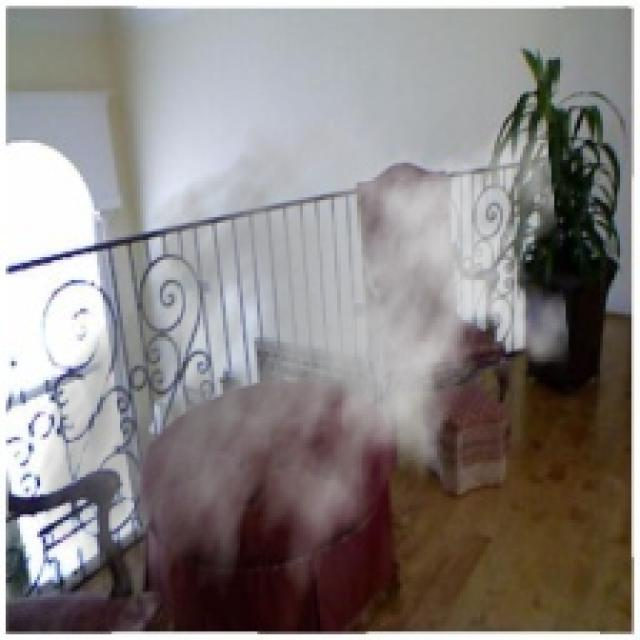smoke: (34, 86, 572, 634)
